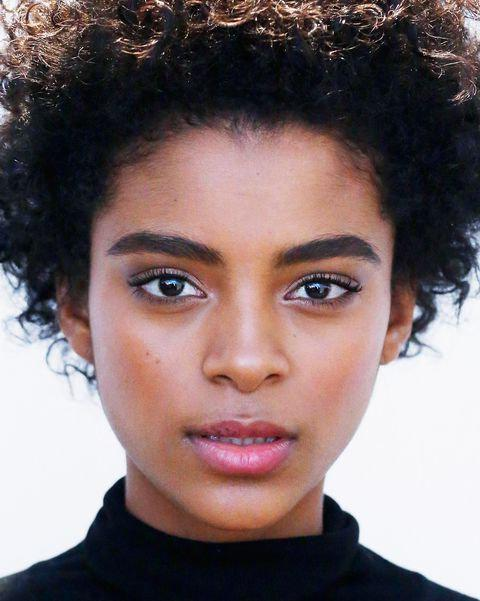Sober: (97, 142, 386, 516)
